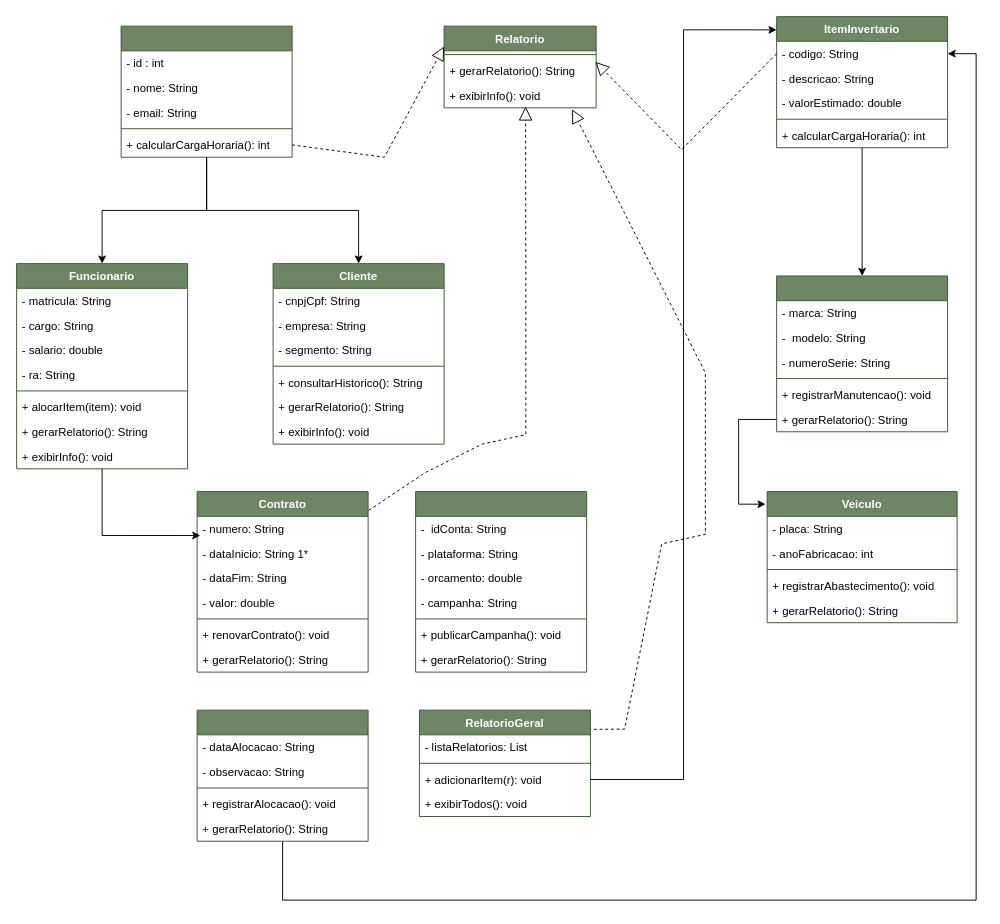
The diagram is 1000 pixels wide and 924 high, and some of its shapes have lost their labels. The box of each missing label's shape, as (x1, y1, x2, y2) in pixels:
AlocacaoItem: (196, 709, 368, 841)
ContaMarketing: (415, 491, 587, 672)
Equipamentos: (776, 275, 948, 432)
Pessoa: (120, 25, 292, 157)
